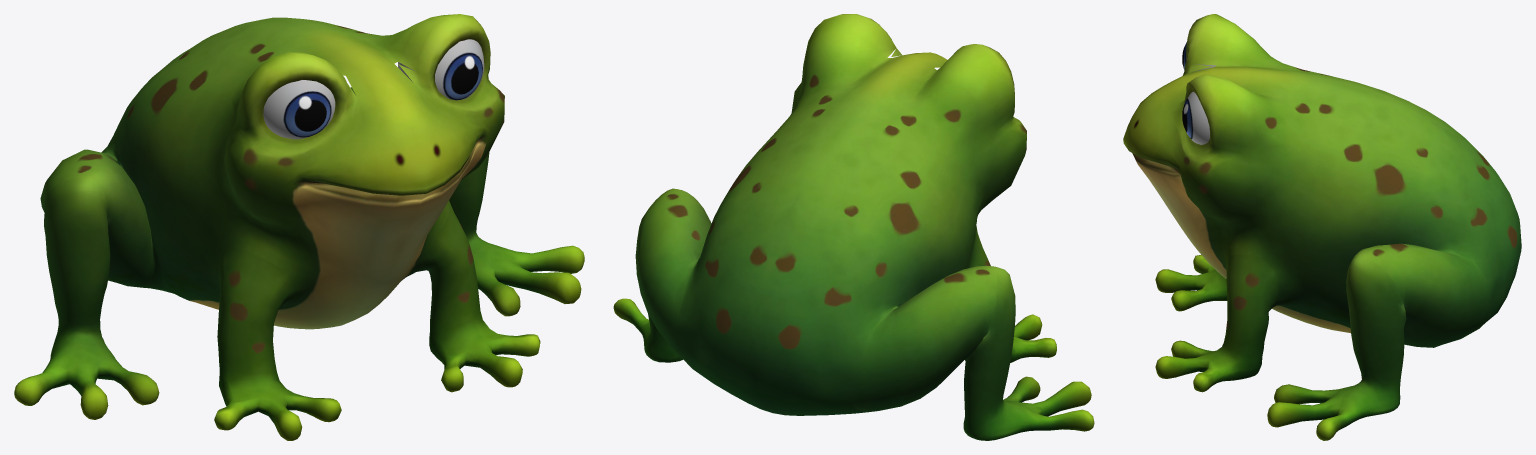
3 renders of one model, left to right at view 1: azimuth 30°, elevation 25°; view 2: azimuth 150°, elevation 25°; view 3: azimuth 270°, elevation 25°, orthographic. The views are drawn at different scales.
Visible parts, largest first — view 1: _gltfNode_0; view 2: _gltfNode_0; view 3: _gltfNode_0.
Boxes of the visible parts, x1,y1,x2,y2 form: _gltfNode_0: [14, 14, 584, 440]; _gltfNode_0: [613, 14, 1094, 440]; _gltfNode_0: [1123, 14, 1521, 440].
Bounding box in the file's own units: 0.0866 × 0.0521 × 0.0653.
1 material, 1 textured.
